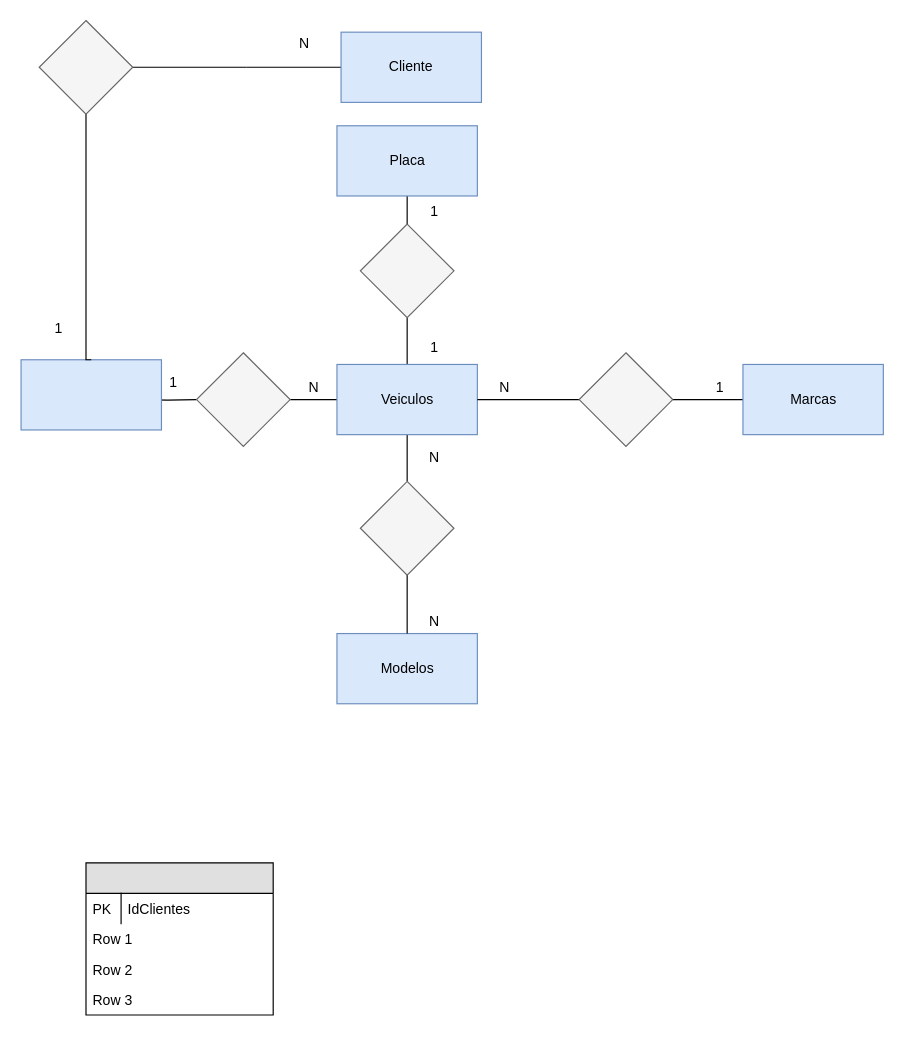
Some shapes in this 903 by 1039 pixel diagram are drawn without their labels. Each missing label, with the box of its shape:
Locadora: (20, 359, 161, 430)
Table: (85, 862, 273, 1015)
